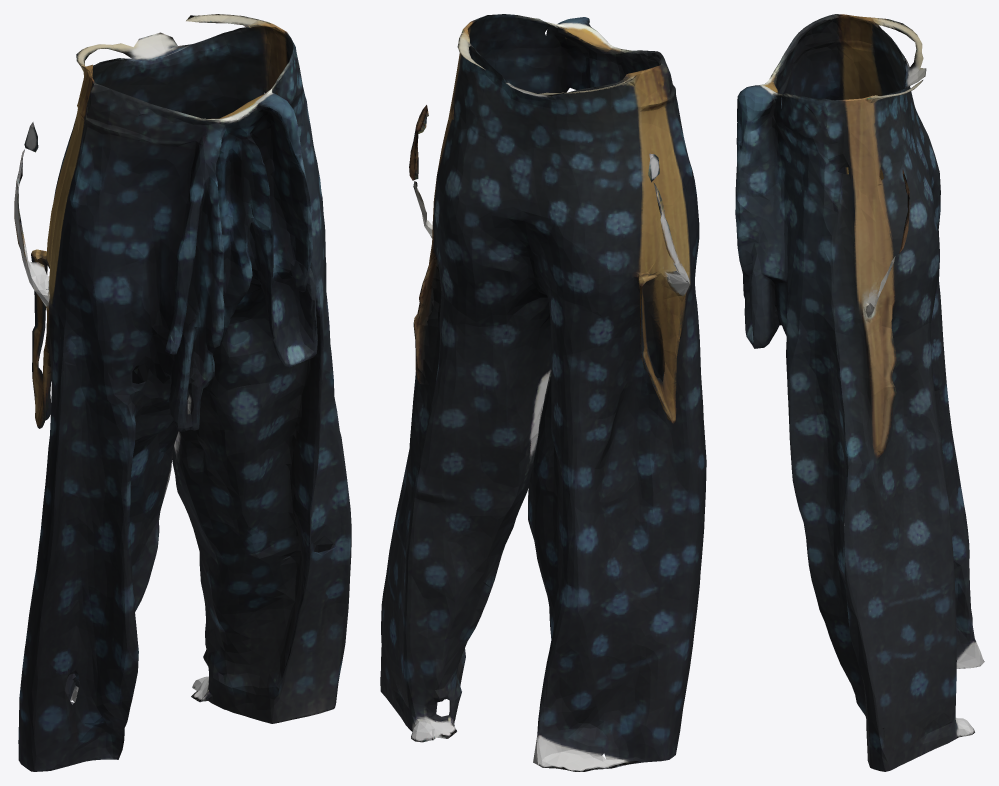
The picture shows the model from 3 angles, left to right: view 1: azimuth 30°, elevation 25°; view 2: azimuth 150°, elevation 25°; view 3: azimuth 270°, elevation 25°; orthographic projection. The views are drawn at different scales.
Parts seen in each view (by area): view 1: world; view 2: world; view 3: world.
Boxes of the visible parts, x1,y1,x2,y2 form: world: (14,14,351,771); world: (380,14,706,771); world: (735,14,984,771).
Size of the model in its own units: 0.478 by 1 by 0.3527.
1 material, 1 textured.
